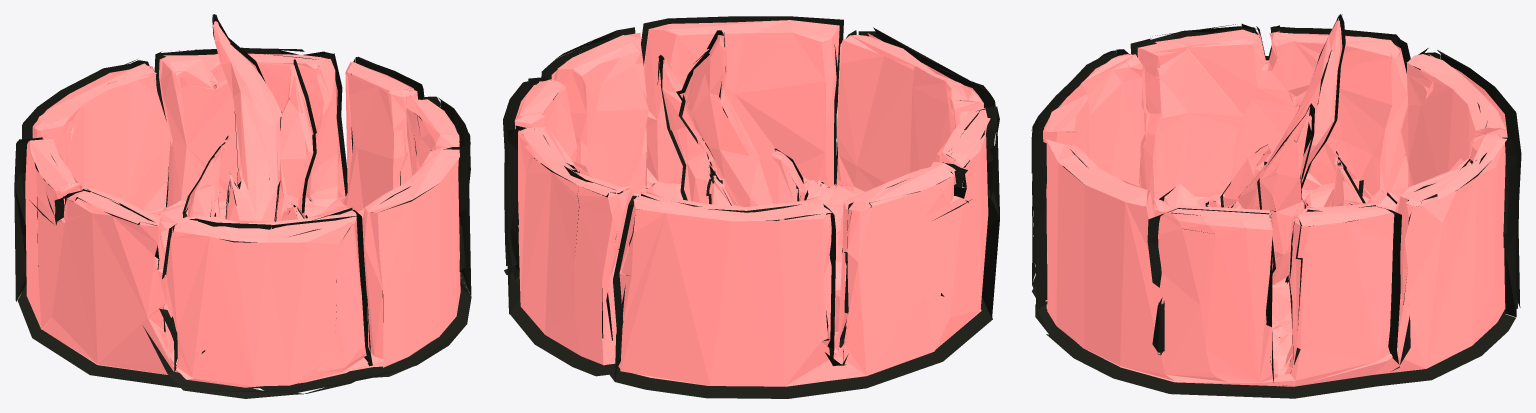
The model's file is df_v2_torch_or_soul_light_g_a.glb.
3 views of the same model, side by side, from view 1: azimuth 30°, elevation 25°; view 2: azimuth 150°, elevation 25°; view 3: azimuth 270°, elevation 25° (orthographic). The views are drawn at different scales.
Parts seen in each view (by area): view 1: torch_or_soul_light_g_mesh_01, torch_or_soul_light_g_mesh_01_ink_outline; view 2: torch_or_soul_light_g_mesh_01, torch_or_soul_light_g_mesh_01_ink_outline; view 3: torch_or_soul_light_g_mesh_01, torch_or_soul_light_g_mesh_01_ink_outline.
Part boxes in pixels (x1,y1,x2,y2): torch_or_soul_light_g_mesh_01: (25, 21, 460, 387); torch_or_soul_light_g_mesh_01_ink_outline: (14, 14, 471, 398); torch_or_soul_light_g_mesh_01: (514, 20, 990, 386); torch_or_soul_light_g_mesh_01_ink_outline: (503, 16, 999, 398); torch_or_soul_light_g_mesh_01: (1043, 20, 1507, 386); torch_or_soul_light_g_mesh_01_ink_outline: (1031, 14, 1521, 398).
Size of the model in its own units: 0.7443 by 0.4801 by 0.7386.
